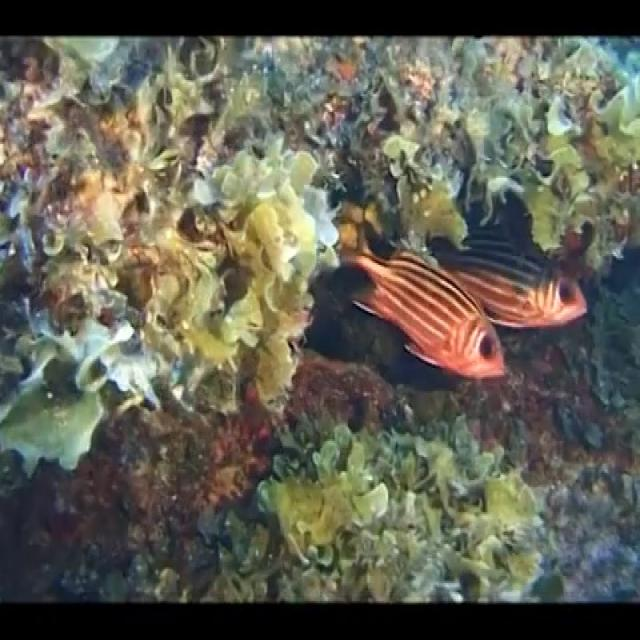Asker Baligi: (318, 247, 514, 379), (437, 231, 589, 348)
